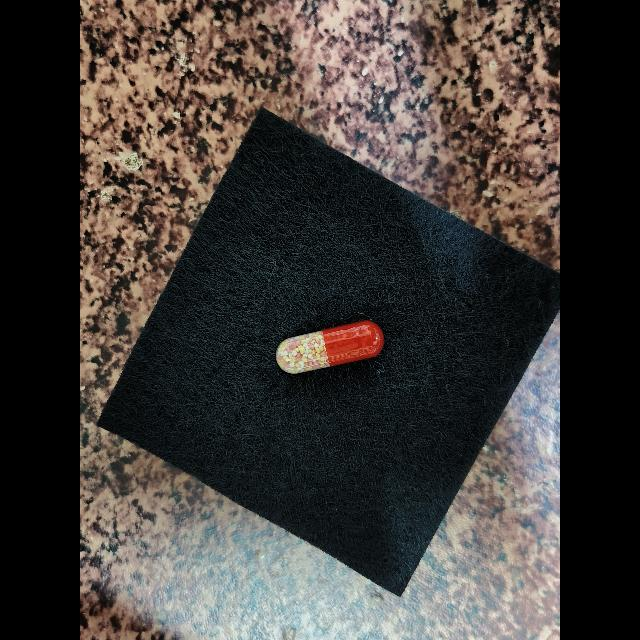Intact Capsule: (276, 320, 384, 374)
